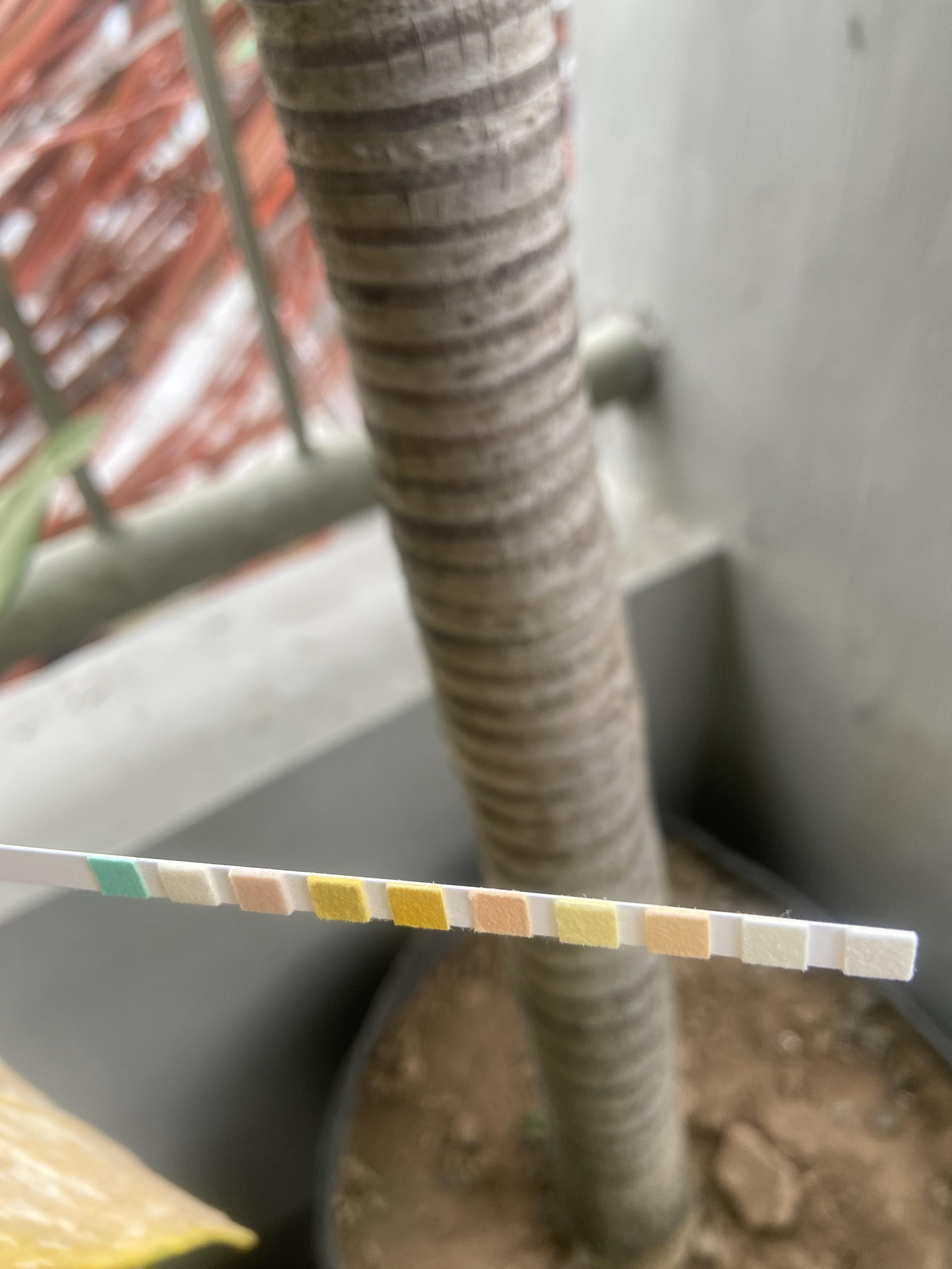Bilirubin: (172, 871, 202, 900)
Blood: (397, 893, 437, 924)
Glucose: (105, 862, 134, 894)
Ketone: (246, 878, 273, 910)
Leukocytes: (849, 941, 910, 975)
Nitrite: (745, 928, 805, 962)
Protein: (565, 911, 612, 942)
SpGravity: (320, 884, 354, 919)
Urobilinogen: (651, 922, 707, 951)
pH: (480, 899, 521, 932)
strip: (0, 847, 917, 978)
